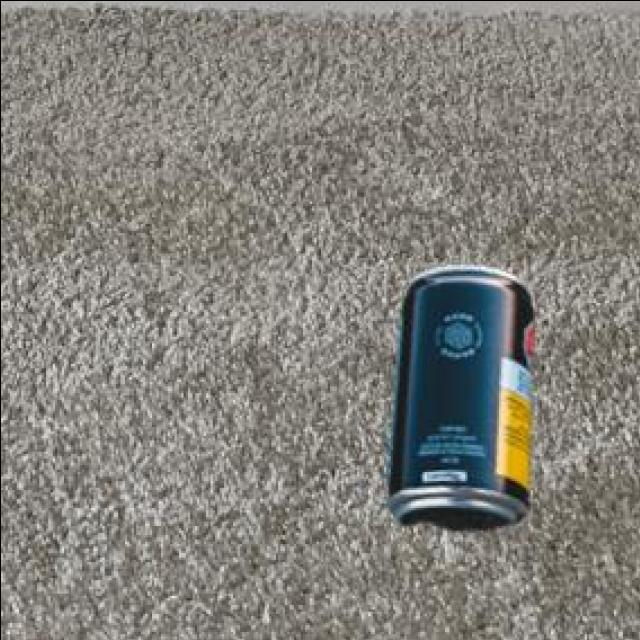logam: (391, 260, 535, 526)
